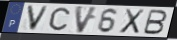6: (97, 7, 119, 34)
B: (141, 9, 169, 36)
C: (48, 6, 71, 32)
V: (74, 5, 100, 35), (26, 4, 50, 32)
X: (118, 8, 146, 35)
